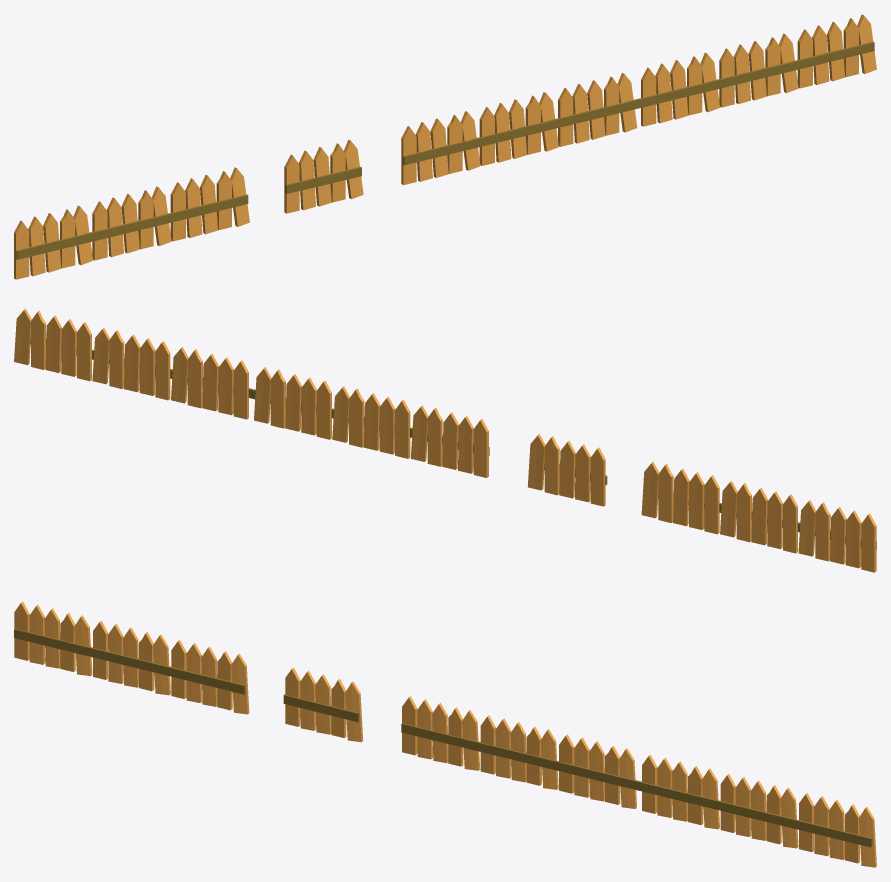
The model's file is Fence.fbx.
3 renders of one model, top to bottom at view 1: azimuth 30°, elevation 25°; view 2: azimuth 150°, elevation 25°; view 3: azimuth 330°, elevation 25°, orthographic.
Visible parts, largest first — view 1: Fence.003, Fence.001, Fence.002; view 2: Fence.003, Fence.001, Fence.002; view 3: Fence.003, Fence.001, Fence.002.
Part boxes in pixels (<box>): Fence.003: <box>401,14,876,185</box>; Fence.001: <box>14,167,249,279</box>; Fence.002: <box>284,139,363,213</box>; Fence.003: <box>14,308,489,477</box>; Fence.001: <box>641,461,876,572</box>; Fence.002: <box>527,434,607,506</box>; Fence.003: <box>401,696,876,867</box>; Fence.001: <box>14,601,249,714</box>; Fence.002: <box>283,667,363,742</box>.
Bounding box in the file's own units: 19.08 × 1.2 × 0.1778.
